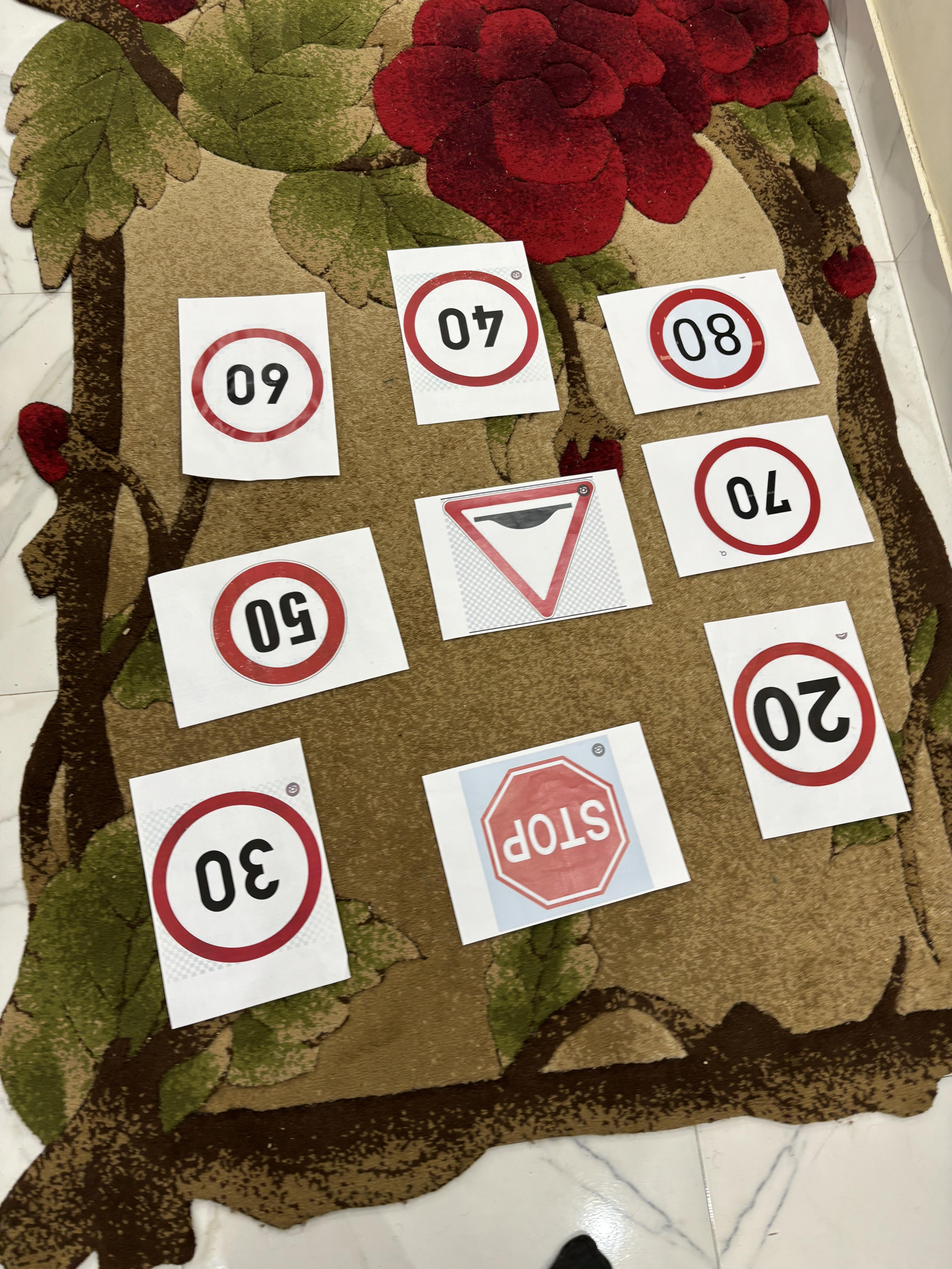20-Speed: (726, 640, 880, 797)
30-speed: (146, 780, 327, 975)
40-Speed: (397, 269, 543, 387)
50-Speed: (207, 556, 354, 698)
60-Speed: (184, 325, 327, 444)
70-Speed: (692, 438, 834, 554)
80-Speed: (646, 283, 772, 397)
Hump: (442, 467, 603, 625)
Stop: (474, 754, 627, 909)
